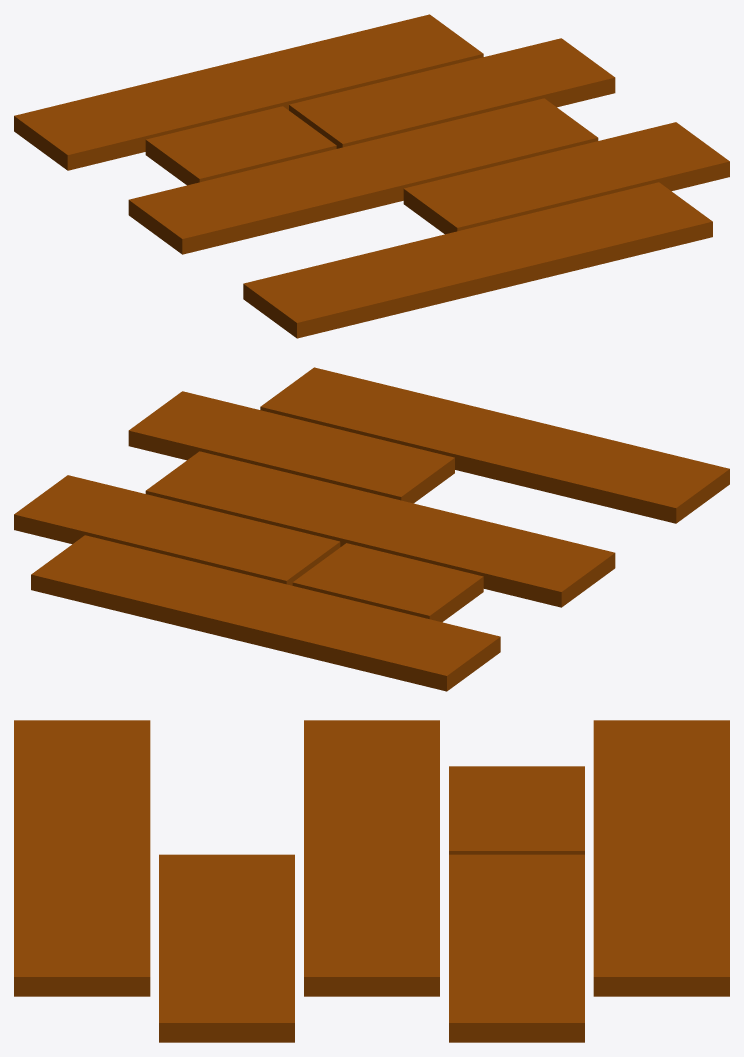
The model's file is RPG_Tiles_Square_Wooden_Boards_10.FBX.
The picture shows the model from 3 angles, top to bottom: view 1: azimuth 30°, elevation 25°; view 2: azimuth 150°, elevation 25°; view 3: azimuth 270°, elevation 25°; orthographic projection. The views are drawn at different scales.
Visible parts, largest first — view 1: RPG_Tiles_Square_Wooden_Boards_10; view 2: RPG_Tiles_Square_Wooden_Boards_10; view 3: RPG_Tiles_Square_Wooden_Boards_10.
Boxes of the visible parts, left/top/right/bottom form: RPG_Tiles_Square_Wooden_Boards_10: left=14, top=14, right=729, bottom=338; RPG_Tiles_Square_Wooden_Boards_10: left=14, top=367, right=729, bottom=691; RPG_Tiles_Square_Wooden_Boards_10: left=14, top=720, right=729, bottom=1042.
Bounding box in the file's own units: 2964 × 90 × 2964.
